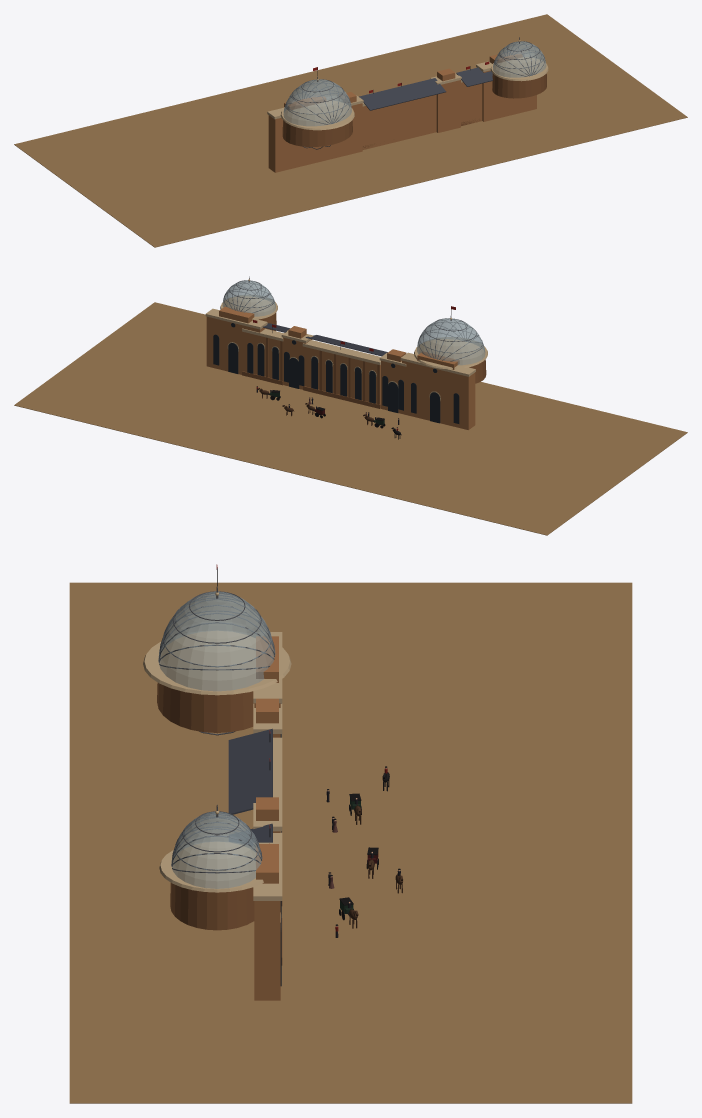
The model's file is scan-fig72-brompton-boilers-muse.glb.
3 views of the same model, one above another, from view 1: azimuth 30°, elevation 25°; view 2: azimuth 150°, elevation 25°; view 3: azimuth 270°, elevation 25° (orthographic). The views are drawn at different scales.
Visible parts, largest first — view 1: plaza, arcade_east_wall, dome_big_glass, pavilion_big_block, dome_big_ring, dome_small_glass, arcade_east_roof, pavilion_far_block, dome_big_drum, pavilion_west_block, dome_small_ring, dome_small_drum (+3 smaller); view 2: plaza, pavilion_big_block, dome_big_glass, arcade_east_wall, pavilion_far_block, dome_big_ring, dome_small_glass, arcade_far_wall, dome_small_ring, arcade_east_cornice, arcade_east_roof, pavilion_west_block (+1 smaller); view 3: plaza, dome_big_glass, dome_big_ring, dome_small_glass, dome_small_ring, dome_big_drum, arcade_east_roof, dome_small_drum, pavilion_far_block, pavilion_big_gable, pavilion_far_gable.
Part boxes in pixels (<box>): plaza: <box>14,14,687,247</box>; arcade_east_wall: <box>362,94,436,149</box>; dome_big_glass: <box>283,79,351,126</box>; pavilion_big_block: <box>268,115,337,172</box>; dome_big_ring: <box>280,99,354,130</box>; dome_small_glass: <box>493,41,546,77</box>; arcade_east_roof: <box>359,78,446,110</box>; pavilion_far_block: <box>482,70,536,121</box>; dome_big_drum: <box>282,120,352,146</box>; pavilion_west_block: <box>436,80,460,132</box>; dome_small_ring: <box>490,56,548,81</box>; dome_small_drum: <box>492,73,546,98</box>; plaza: <box>14,302,687,535</box>; pavilion_big_block: <box>402,360,475,429</box>; dome_big_glass: <box>417,318,485,365</box>; arcade_east_wall: <box>304,347,380,404</box>; pavilion_far_block: <box>206,316,266,374</box>; dome_big_ring: <box>414,337,487,369</box>; dome_small_glass: <box>222,280,275,316</box>; arcade_far_wall: <box>243,332,280,379</box>; dome_small_ring: <box>220,295,277,319</box>; arcade_east_cornice: <box>302,340,380,364</box>; arcade_east_roof: <box>305,335,387,356</box>; pavilion_west_block: <box>283,337,312,389</box>; plaza: <box>69,582,632,1103</box>; dome_big_glass: <box>158,591,275,691</box>; dome_big_ring: <box>143,630,291,695</box>; dome_small_glass: <box>171,811,262,888</box>; dome_small_ring: <box>159,841,263,892</box>; dome_big_drum: <box>157,683,253,732</box>; arcade_east_roof: <box>228,728,272,814</box>; dome_small_drum: <box>170,883,254,930</box>; pavilion_far_block: <box>254,901,280,1000</box>; pavilion_big_gable: <box>256,636,278,682</box>; pavilion_far_gable: <box>256,844,278,883</box>.
Bounding box in the file's own units: 140 × 26.33 × 64.
